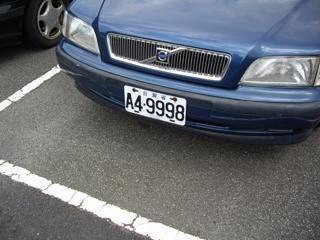plate: (122, 83, 187, 129)
